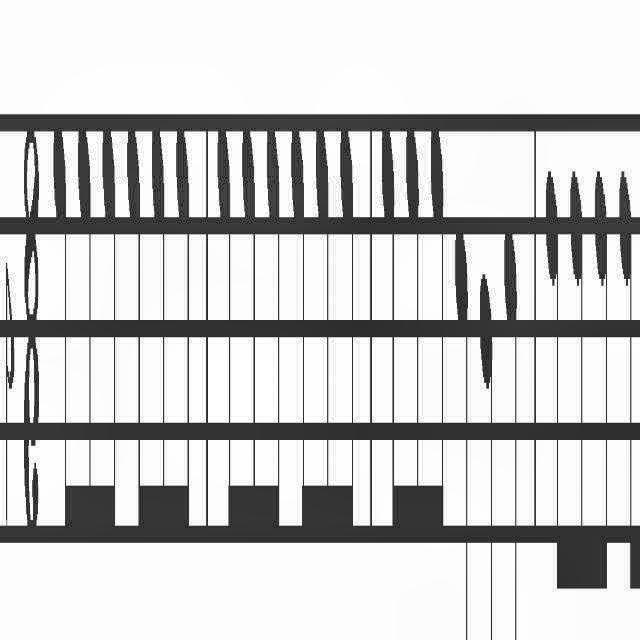Bemol: (4, 258, 16, 534)
Eighth-note: (52, 110, 72, 546), (126, 99, 144, 553), (99, 99, 117, 549), (499, 240, 519, 640), (477, 263, 498, 640), (380, 110, 398, 542), (149, 107, 167, 537), (239, 114, 257, 542), (568, 148, 584, 618), (404, 106, 421, 542), (544, 152, 560, 614), (261, 126, 279, 534), (618, 159, 634, 616), (215, 107, 232, 530), (173, 123, 190, 542), (593, 167, 609, 609), (338, 111, 354, 549), (314, 126, 331, 534), (76, 110, 92, 542), (454, 235, 471, 640), (428, 119, 444, 546), (290, 130, 306, 544)
